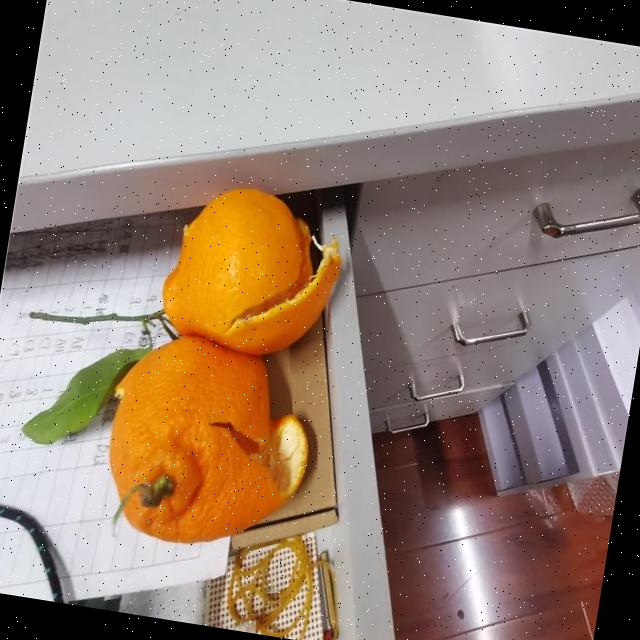orange-peel: (92, 324, 324, 562), (153, 176, 352, 367)
